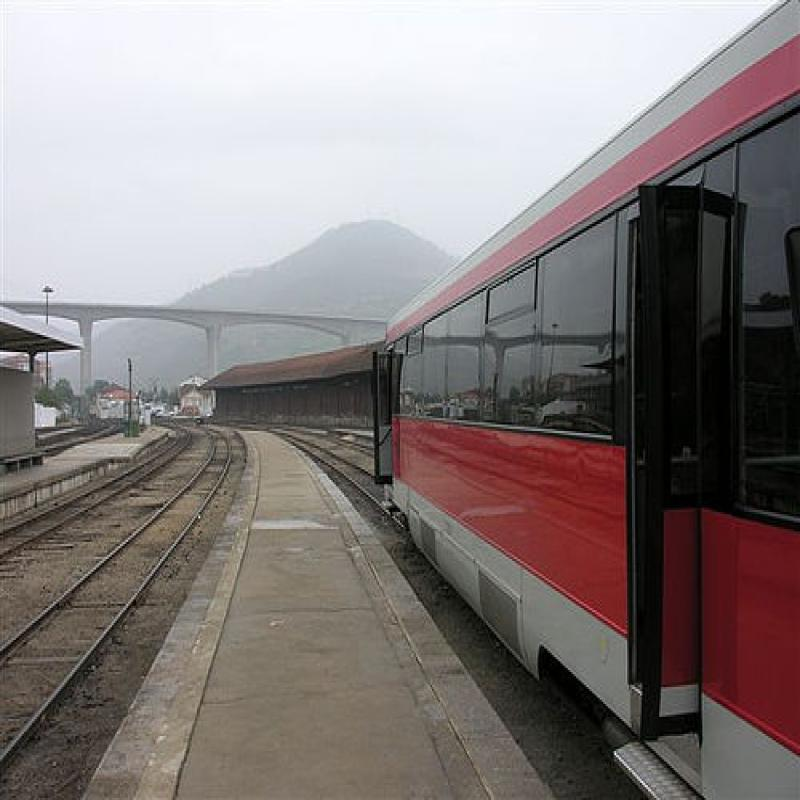train: (371, 1, 798, 799)
